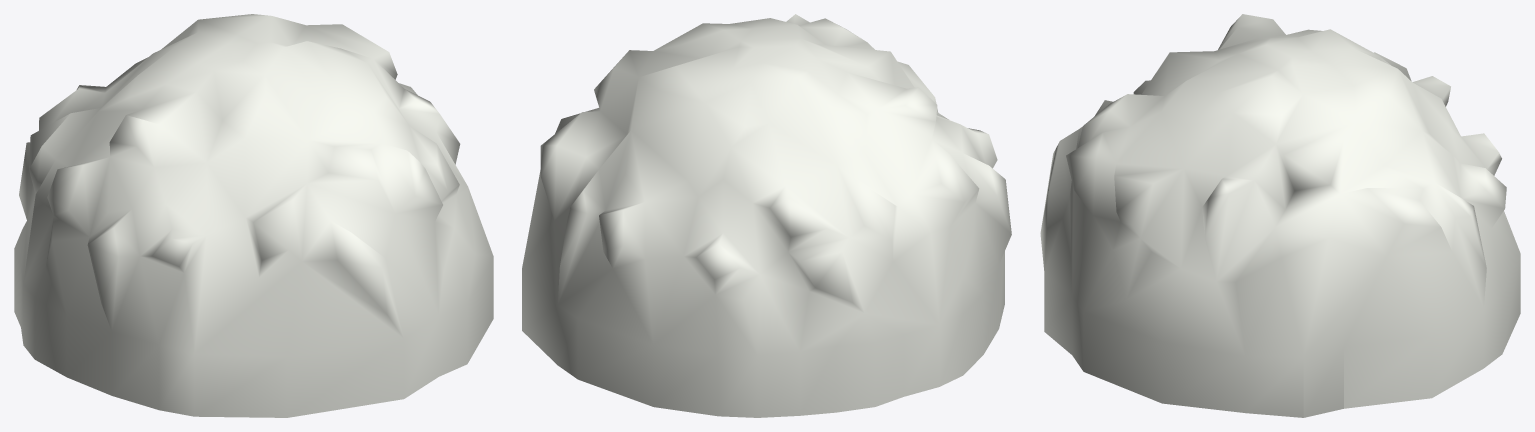
Rendered from Rice_geo.fbx.
3 views of the same model, side by side, from view 1: azimuth 30°, elevation 25°; view 2: azimuth 150°, elevation 25°; view 3: azimuth 270°, elevation 25° (orthographic). The views are drawn at different scales.
Parts seen in each view (by area): view 1: Rice_geo; view 2: Rice_geo; view 3: Rice_geo.
Part boxes in pixels (bbox=[...]): Rice_geo: bbox=[14, 14, 493, 417]; Rice_geo: bbox=[522, 14, 1011, 417]; Rice_geo: bbox=[1040, 14, 1520, 417].
Bounding box in the file's own units: 0.5005 × 0.5084 × 0.3092.
